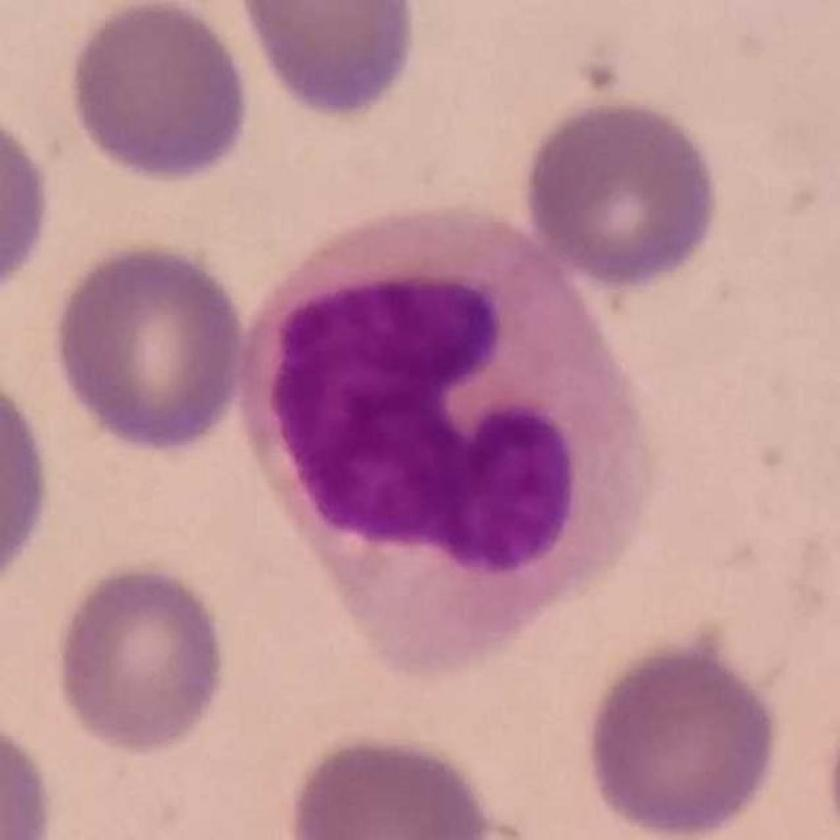monocyte: (232, 206, 661, 680)
